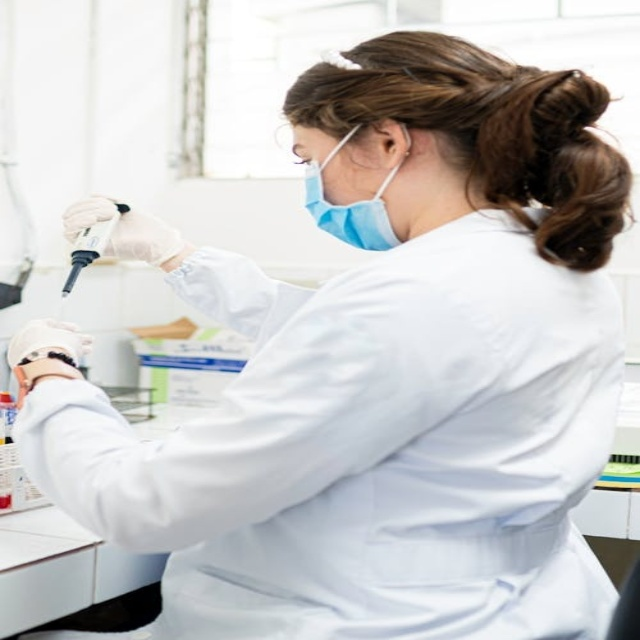Guantes: (64, 195, 185, 269), (6, 318, 95, 380)
Mascara: (304, 130, 406, 251)
Sin_gafas: (287, 132, 335, 170)
